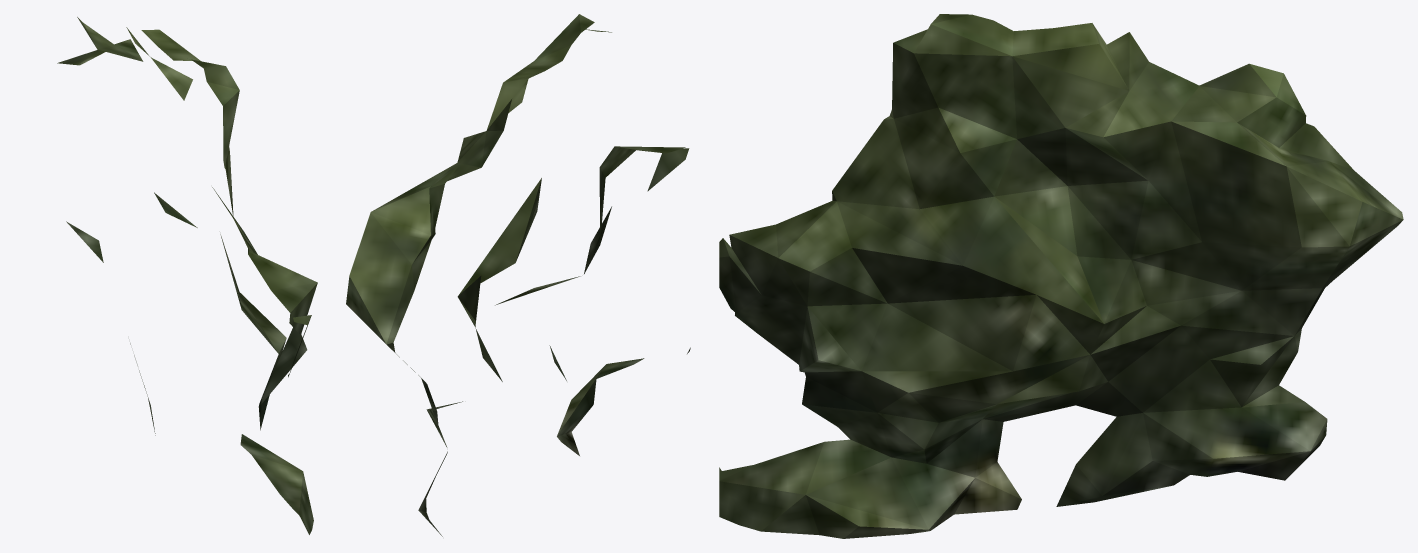
The picture shows the model from 3 angles, left to right: view 1: azimuth 30°, elevation 25°; view 2: azimuth 150°, elevation 25°; view 3: azimuth 270°, elevation 25°; orthographic projection. The views are drawn at different scales.
Bounding box in the file's own units: 0.296 × 1.65 × 2.06.
Materials: 1 (1 with a texture image).
